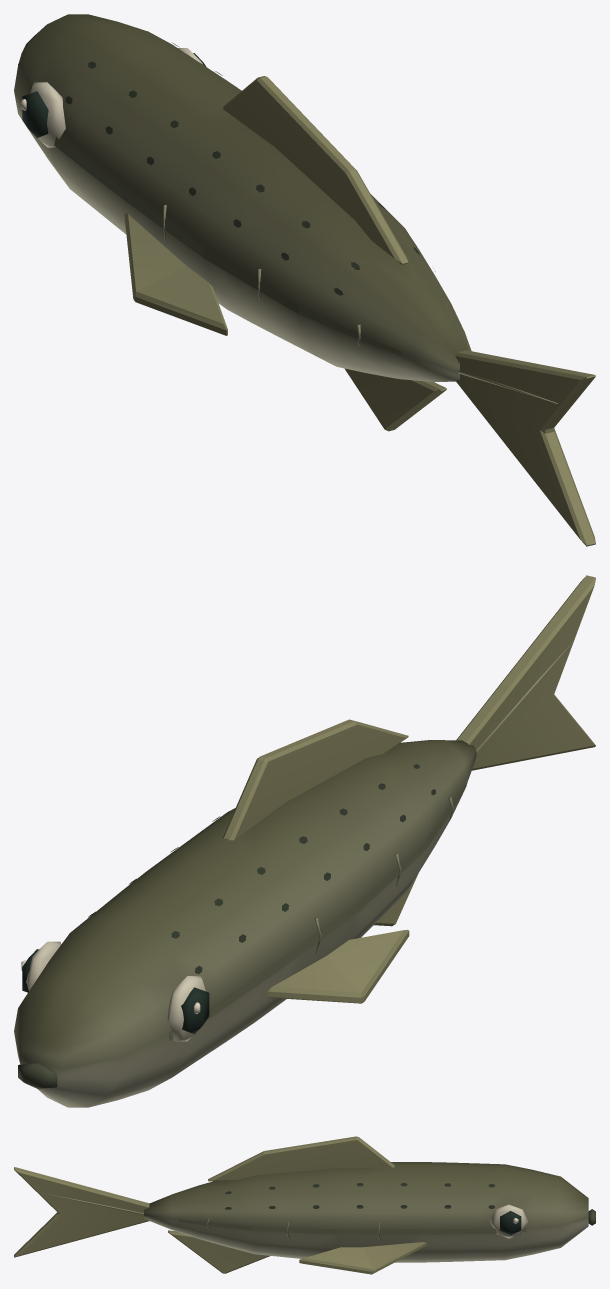
File: fish_minnow.glb
The picture shows the model from 3 angles, top to bottom: view 1: azimuth 30°, elevation 25°; view 2: azimuth 150°, elevation 25°; view 3: azimuth 270°, elevation 25°; orthographic projection. The views are drawn at different scales.
Size of the model in its own units: 0.026 by 0.0283 by 0.1098.
